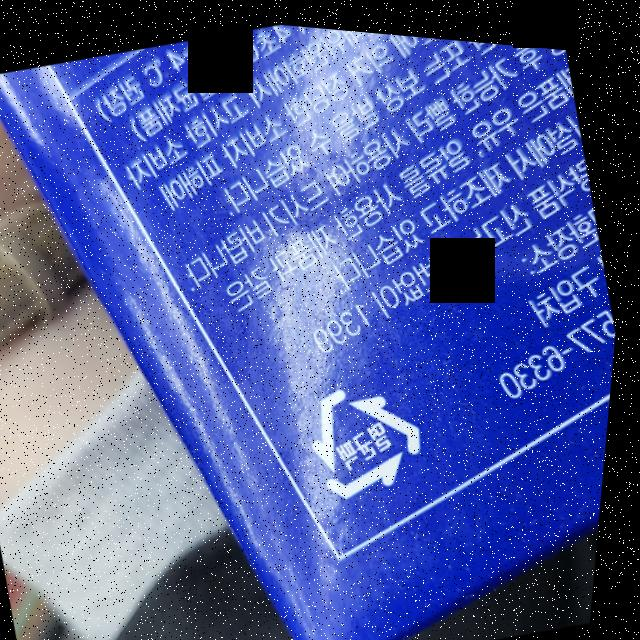SterilizedPack: (299, 354, 452, 509)
